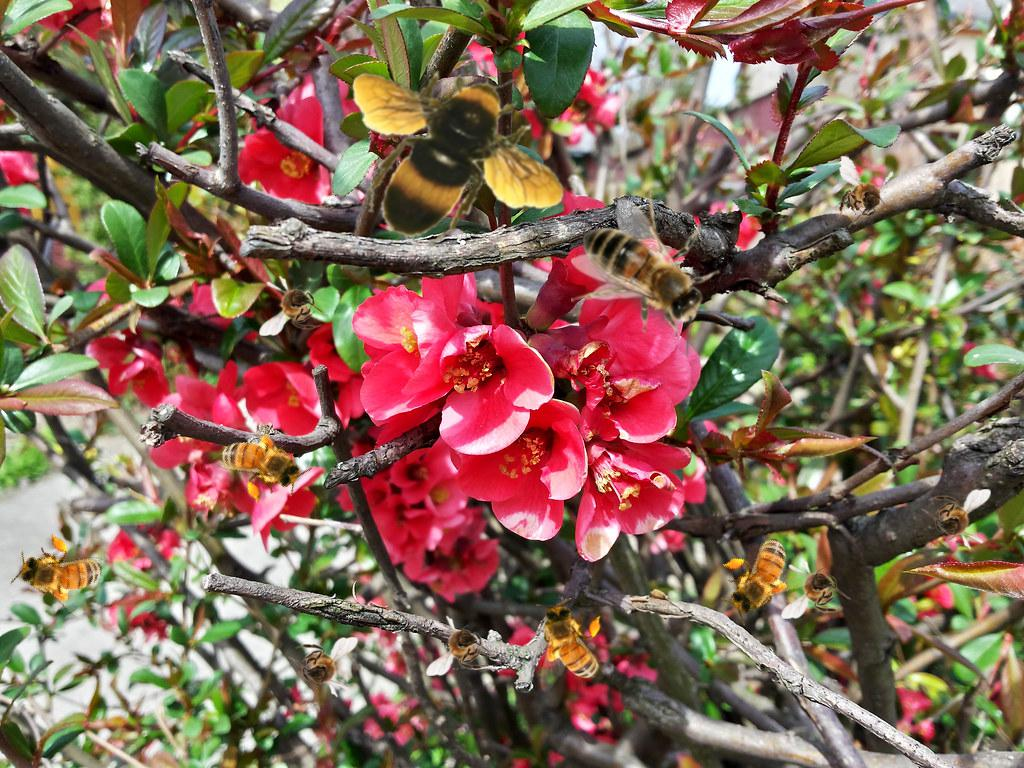Bee: (341, 49, 575, 256), (571, 190, 733, 357), (203, 404, 317, 519), (704, 523, 820, 630), (4, 521, 120, 628), (536, 598, 604, 691), (829, 155, 902, 235), (426, 615, 496, 676), (921, 489, 991, 550), (781, 558, 851, 619), (288, 637, 358, 698), (259, 275, 329, 336)
